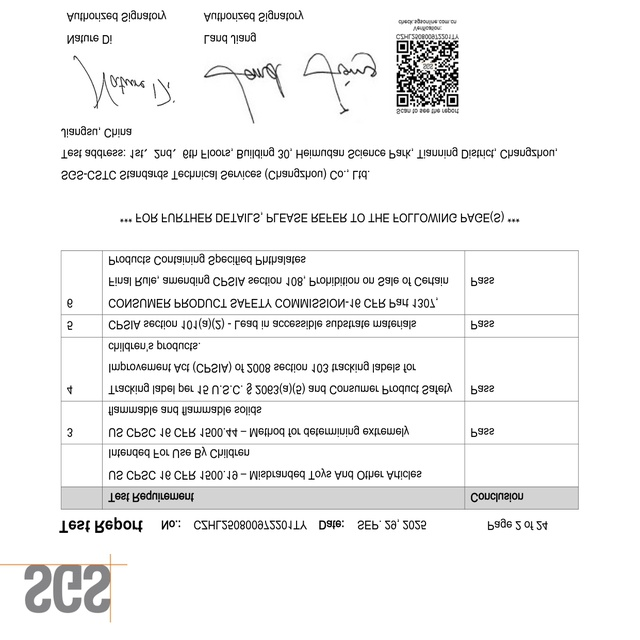sgs: (23, 563, 112, 613)
